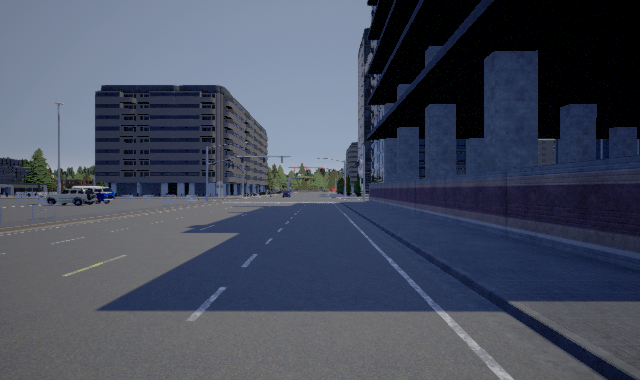vehicle: (45, 186, 115, 206)
